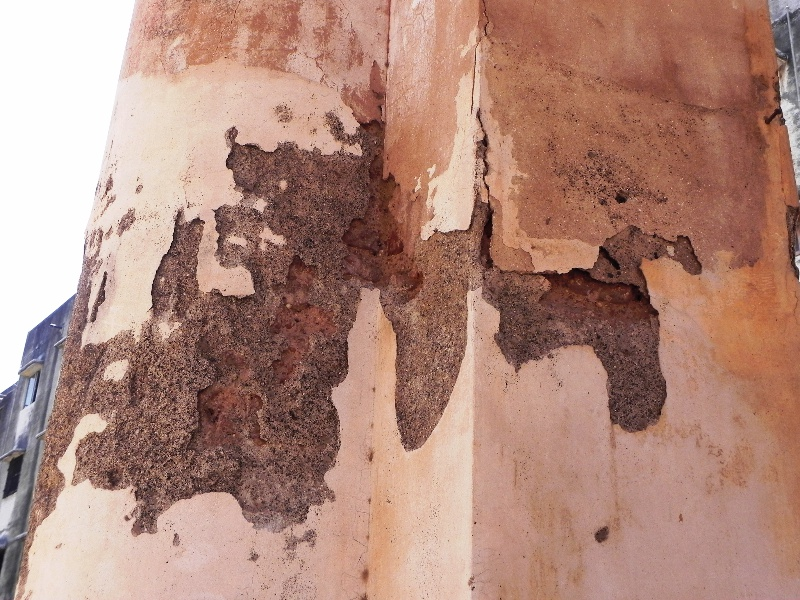Crack: (474, 108, 494, 175)
Spalling: (26, 103, 387, 551), (472, 179, 678, 439), (383, 165, 467, 455)
